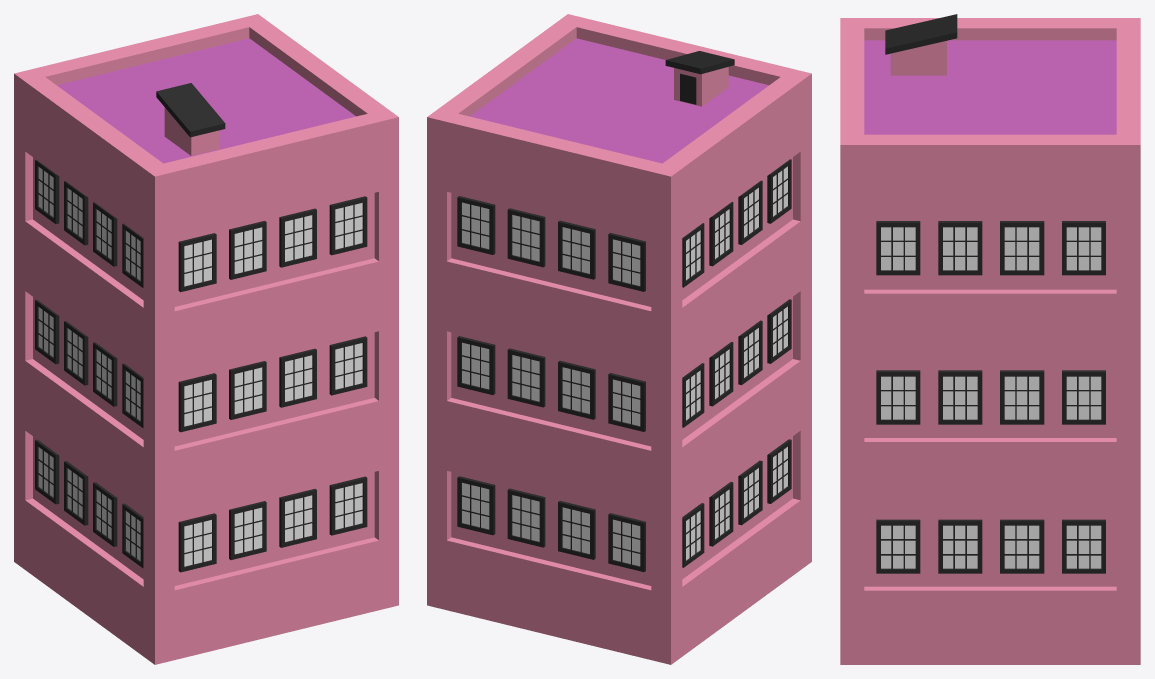
The model's file is BlockOFlats.FBX.
3 views of the same model, side by side, from view 1: azimuth 30°, elevation 25°; view 2: azimuth 150°, elevation 25°; view 3: azimuth 270°, elevation 25° (orthographic). The views are drawn at different scales.
Parts seen in each view (by area): view 1: building 1; view 2: building 1; view 3: building 1.
Part boxes in pixels (x1,y1,x2,y2): building 1: [14, 14, 398, 664]; building 1: [427, 14, 811, 664]; building 1: [840, 14, 1140, 664].
Bounding box in the file's own units: 95.67 × 195 × 95.67.
